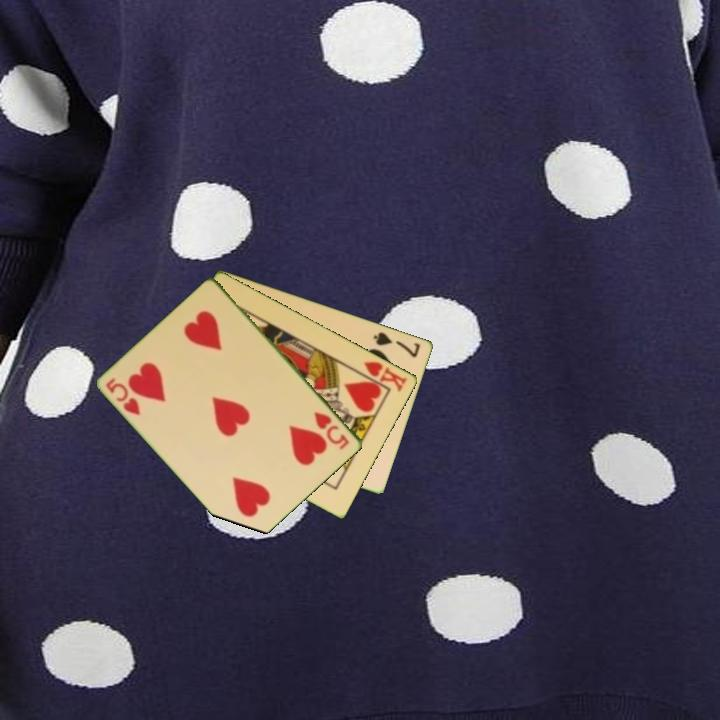5h: (310, 408, 353, 453), (102, 374, 144, 418)
7s: (370, 328, 423, 360)
Kh: (353, 358, 410, 395)
